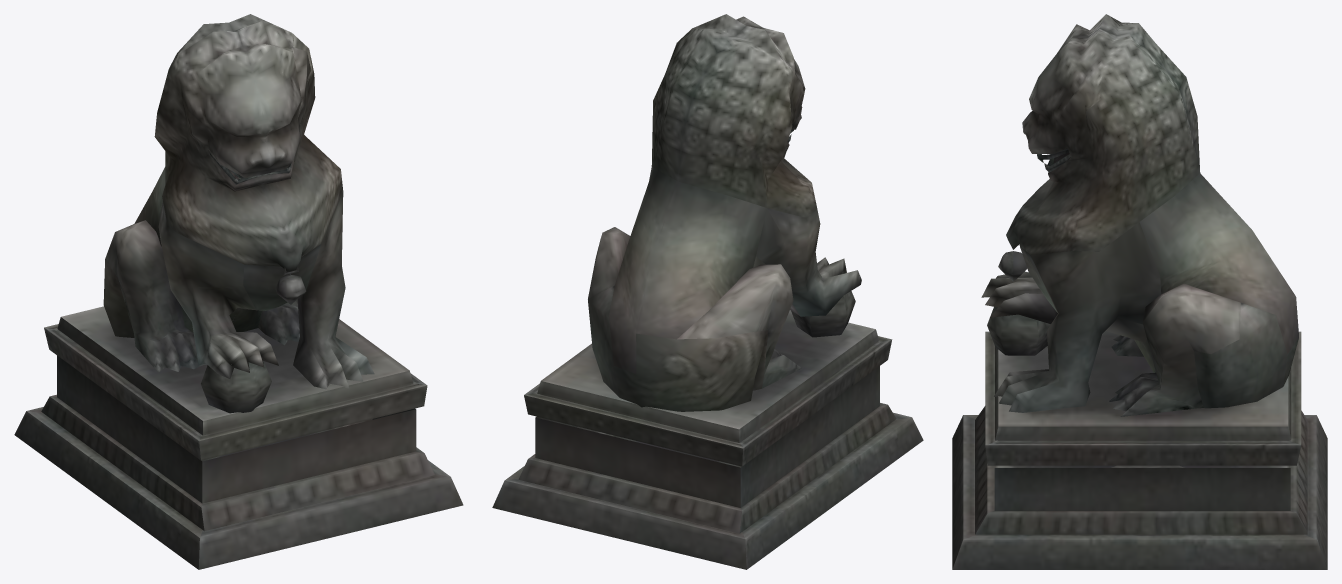
Rendered from fb_zijiancheng_gaojishishizi01.FBX.
3 renders of one model, left to right at view 1: azimuth 30°, elevation 25°; view 2: azimuth 150°, elevation 25°; view 3: azimuth 270°, elevation 25°, orthographic. The views are drawn at different scales.
Parts seen in each view (by area): view 1: fb_zijiancheng_gaojishishizi01; view 2: fb_zijiancheng_gaojishishizi01; view 3: fb_zijiancheng_gaojishishizi01.
Boxes of the visible parts, x1=… form: fb_zijiancheng_gaojishishizi01: x1=14, y1=14, x2=463, y2=569; fb_zijiancheng_gaojishishizi01: x1=492, y1=14, x2=923, y2=569; fb_zijiancheng_gaojishishizi01: x1=952, y1=14, x2=1327, y2=569.
Bounding box in the file's own units: 77.36 × 129 × 93.26.
Materials: 1 (1 with a texture image).
